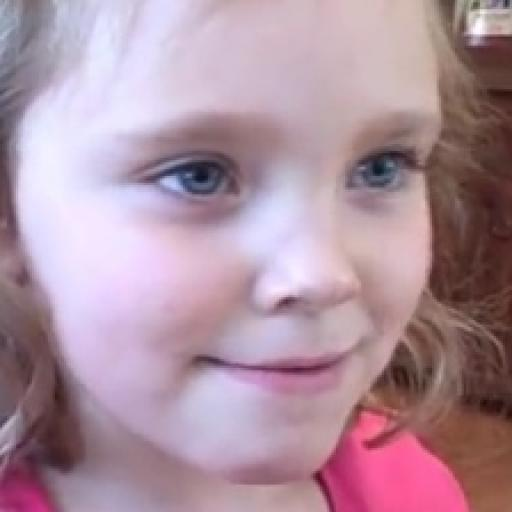Autism: (0, 0, 441, 487)
